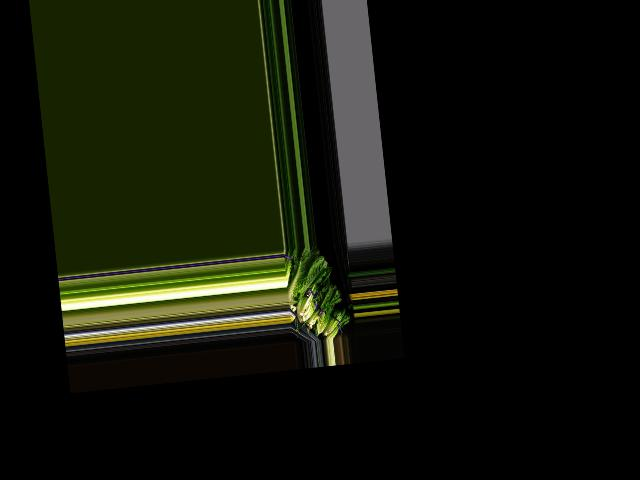lettuce: (285, 246, 329, 304)
